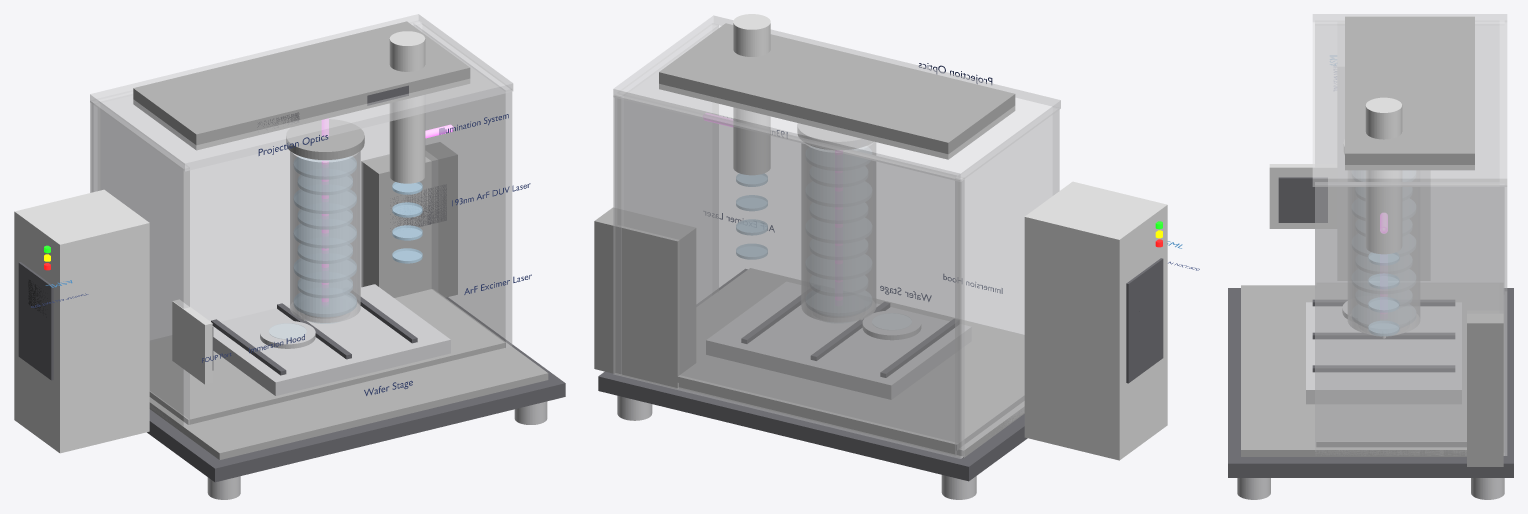
File: asml_duv.glb
3 views of the same model, side by side, from view 1: azimuth 30°, elevation 25°; view 2: azimuth 150°, elevation 25°; view 3: azimuth 270°, elevation 25° (orthographic). The views are drawn at different scales.
Parts seen in each view (by area): view 1: Wall_Back, Cabinet_Main, Duct_Top, Wall_Right, Floor_Plate, Wall_Left, Roof, Laser_Box, Stage_Base, POB_Barrel, Inner_Floor, Base_Frame (+18 smaller); view 2: Wall_Back, Cabinet_Main, Duct_Top, Wall_Left, Inner_Floor, Wall_Right, Laser_Box, Roof, Stage_Base, POB_Barrel, Base_Frame, Floor_Plate (+7 smaller); view 3: Wall_Right, Wall_Left, Duct_Top, Roof, Floor_Plate, Stage_Base, Base_Frame, Inner_Floor, POB_Barrel, Laser_Box, Illum_Barrel, Cabinet_Main (+12 smaller).
Part boxes in pixels (x1,y1,x2,y2): Wall_Back: [90, 20, 421, 340]; Cabinet_Main: [14, 189, 149, 453]; Duct_Top: [133, 21, 470, 150]; Wall_Right: [413, 21, 512, 347]; Floor_Plate: [149, 342, 548, 459]; Wall_Left: [91, 100, 189, 426]; Roof: [90, 14, 513, 171]; Laser_Box: [361, 142, 457, 297]; Stage_Base: [212, 284, 450, 395]; POB_Barrel: [290, 151, 360, 322]; Inner_Floor: [149, 289, 505, 424]; Base_Frame: [147, 297, 565, 482]; Wall_Back: [613, 93, 964, 458]; Cabinet_Main: [1024, 181, 1167, 460]; Duct_Top: [659, 23, 1015, 159]; Wall_Left: [955, 106, 1059, 457]; Inner_Floor: [621, 292, 1024, 450]; Wall_Right: [615, 23, 718, 374]; Laser_Box: [594, 207, 695, 388]; Roof: [613, 15, 1060, 181]; Stage_Base: [706, 282, 971, 399]; POB_Barrel: [801, 142, 875, 322]; Base_Frame: [598, 269, 1027, 481]; Floor_Plate: [679, 268, 1024, 457]; Wall_Right: [1315, 182, 1504, 455]; Wall_Left: [1315, 20, 1503, 285]; Duct_Top: [1345, 16, 1474, 170]; Roof: [1312, 14, 1507, 186]; Floor_Plate: [1241, 285, 1466, 456]; Stage_Base: [1306, 302, 1461, 404]; Base_Frame: [1228, 288, 1513, 477]; Inner_Floor: [1316, 283, 1503, 447]; POB_Barrel: [1348, 170, 1419, 334]; Laser_Box: [1467, 284, 1503, 466]; Illum_Barrel: [1365, 97, 1402, 253]; Cabinet_Main: [1338, 22, 1429, 280].
Bounding box in the file's own units: 4.48 × 3.04 × 2.2.
